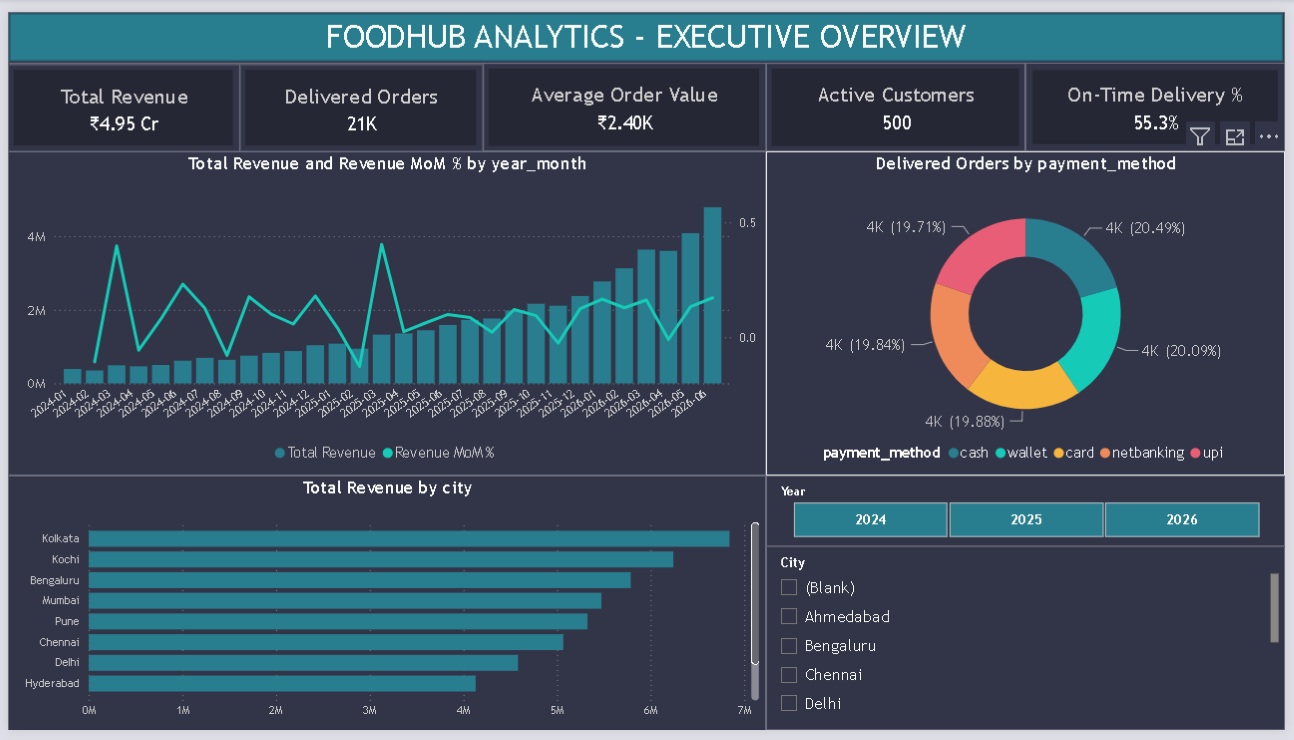

Layout of this report page (visuals, bound fields, positions):
{"tool":"powerbi","page":{"name":"Executive Overview","canvas":[1280,720],"ordinal":0},"visuals":[{"type":"cardVisual","fields":{"Data":["public fact_orders.Revenue (Label)"]},"box":[0,51.9,232.8,88.1],"z":0},{"type":"cardVisual","fields":{"Data":["public fact_orders.Delivered Orders"]},"box":[232.8,51.9,243.7,88.1],"z":1000},{"type":"cardVisual","fields":{"Data":["public fact_orders.Average Order Value"]},"box":[476.2,51,283.8,89],"z":2000},{"type":"cardVisual","fields":{"Data":["public fact_orders.Active Customers"]},"box":[760,51,260,89],"z":3000},{"type":"cardVisual","fields":{"Data":["public fact_orders.On-Time Delivery %"]},"box":[1020,51,260,89],"z":4000},{"type":"lineStackedColumnComboChart","fields":{"Category":["public dim_date.year_month"],"Y":["public fact_orders.Total Revenue"],"Y2":["public fact_orders.Revenue MoM %"]},"box":[0,139.9,760.1,324.5],"z":5000},{"type":"donutChart","fields":{"Category":["public fact_orders.payment_method"],"Y":["public fact_orders.Delivered Orders"]},"box":[760.1,139.9,520,324.5],"z":6000},{"type":"clusteredBarChart","fields":{"Category":["public dim_restaurants.city"],"Y":["public fact_orders.Total Revenue"]},"box":[0,464.5,760.1,255.8],"z":7000},{"type":"slicer","fields":{"Values":["public dim_date.year"]},"box":[760,465,520,71],"z":8000},{"type":"slicer","fields":{"Values":["public dim_restaurants.city"]},"box":[760,536.2,520,183.8],"z":9000},{"type":"shape","box":[0,0,1280,51.7],"z":10000,"group":"g1"},{"type":"textbox","box":[124.7,0,1029.4,52.5],"z":11000,"group":"g1"},{"type":"group","id":"g1","title":"Group 1","box":[0,0,1280,52.5],"z":11001}]}

Visuals, with their boxes in screenshot pixels (x1, y1, x2, y2), scaled from the page's 1280x720 canvas onto the 1294x740 screenshot:
cardVisual - public fact_orders.Revenue (Label): [0,53,235,144]
cardVisual - public fact_orders.Delivered Orders: [235,53,482,144]
cardVisual - public fact_orders.Average Order Value: [481,52,768,144]
cardVisual - public fact_orders.Active Customers: [768,52,1031,144]
cardVisual - public fact_orders.On-Time Delivery %: [1031,52,1293,144]
lineStackedColumnComboChart - public dim_date.year_month x public fact_orders.Total Revenue: [0,144,768,477]
donutChart - public fact_orders.payment_method x public fact_orders.Delivered Orders: [768,144,1293,477]
clusteredBarChart - public dim_restaurants.city x public fact_orders.Total Revenue: [0,477,768,739]
slicer - public dim_date.year: [768,478,1293,551]
slicer - public dim_restaurants.city: [768,551,1293,739]
shape: [0,0,1293,53]
textbox: [126,0,1167,54]
"Group 1" group: [0,0,1293,54]
